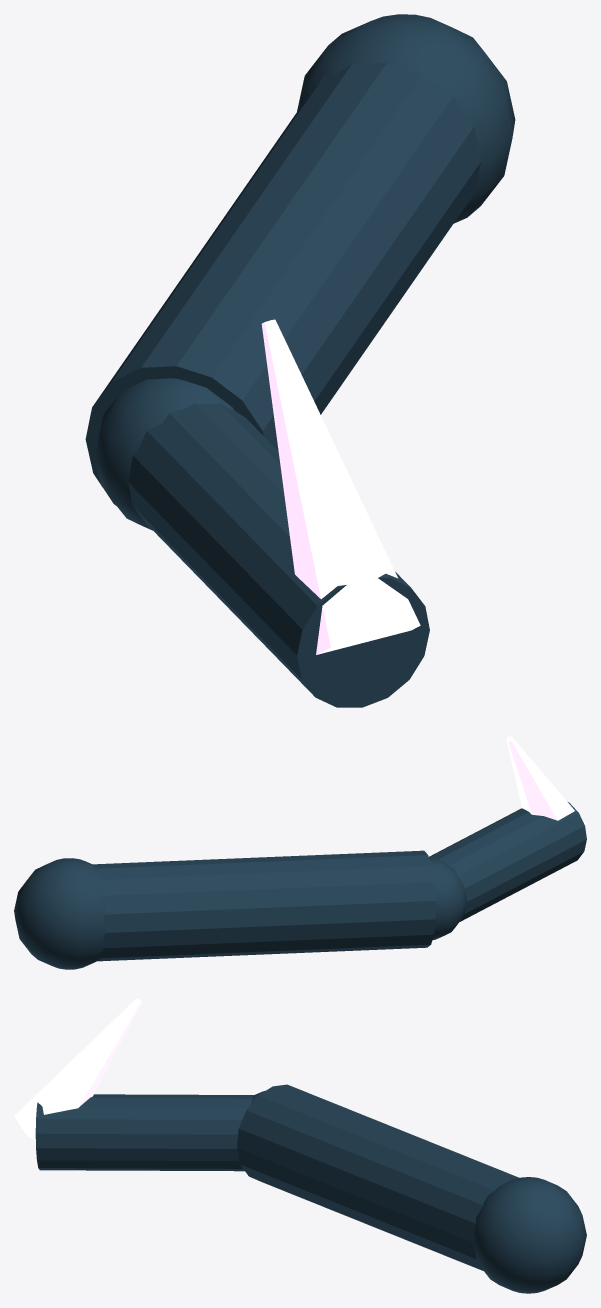
File: SM_Keeper_Nun_Armm11.fbx
3 views of the same model, one above another, from view 1: azimuth 30°, elevation 25°; view 2: azimuth 150°, elevation 25°; view 3: azimuth 270°, elevation 25° (orthographic). The views are drawn at different scales.
Visible parts, largest first — view 1: SM_Keeper_Nun_Armm11; view 2: SM_Keeper_Nun_Armm11; view 3: SM_Keeper_Nun_Armm11.
Part boxes in pixels (box(x1,y1,x2,y2)): SM_Keeper_Nun_Armm11: box(85, 14, 515, 707); SM_Keeper_Nun_Armm11: box(14, 736, 586, 969); SM_Keeper_Nun_Armm11: box(14, 998, 586, 1293).
Size of the model in its own units: 9.2 by 4.3 by 13.07.
